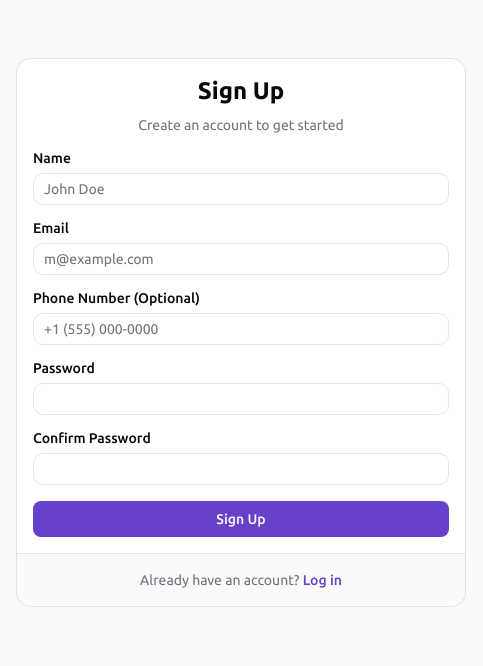
it: SignupPage › shows validation errors for invalid data
The image size is (483, 666).
# Submit empty form
Click the button "Sign Up": (241, 518) [33, 500, 449, 536]
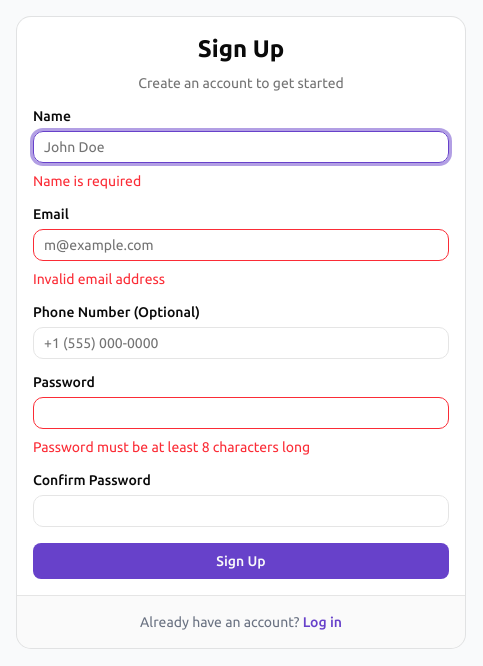
Now the text "Name is required" is shown, box [33, 172, 141, 188]
Now the text "Invalid email address" is shown, box [33, 270, 165, 286]
Now the text "Password must be at least 8 characters long" is shown, box [33, 438, 310, 454]
# Test password confirmation mismatch
In the password field labelled "Password": (241, 412) [33, 396, 449, 428], type "Password1!"
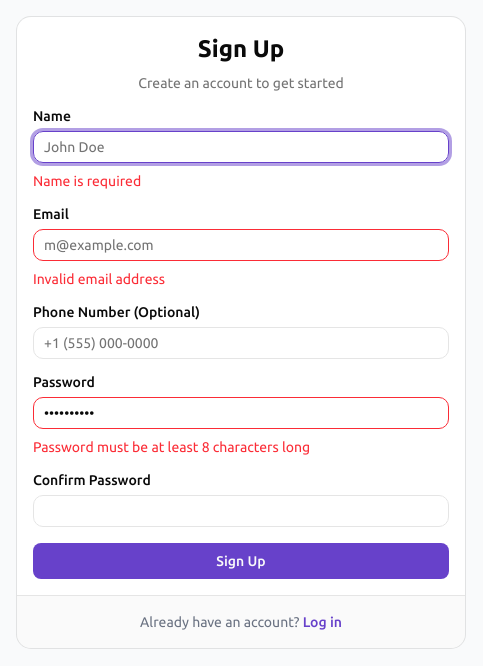
In the password field labelled "Confirm Password": (241, 510) [33, 494, 449, 526], type "DifferentPassword1!"
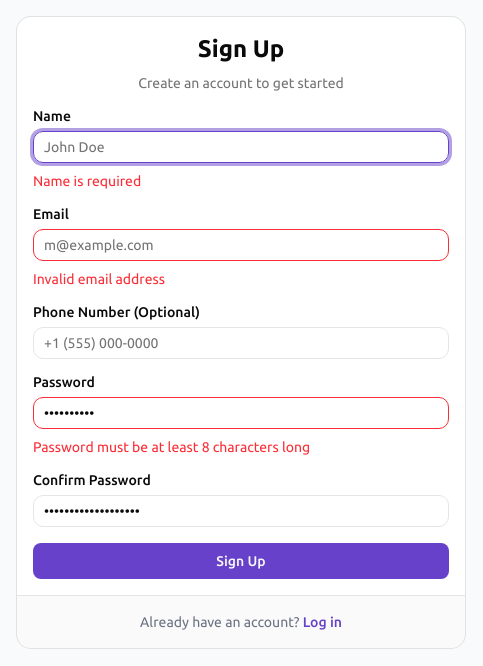
Click the button "Sign Up": (241, 560) [33, 542, 449, 578]
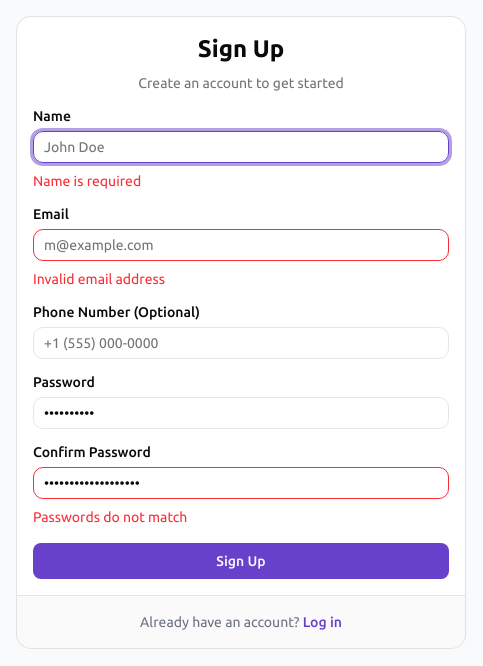
Now the text "Passwords do not match" is shown, box [33, 508, 187, 524]
